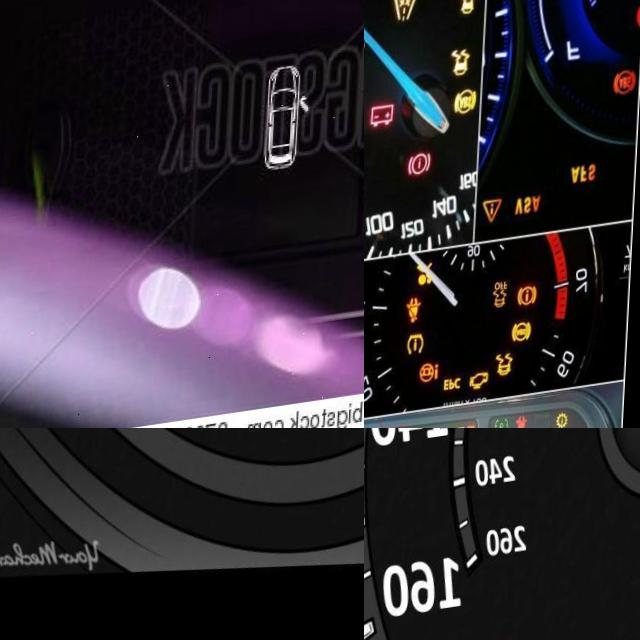Electronic Power Steering: (423, 375, 446, 401)
Seat Belt: (410, 311, 427, 338)
